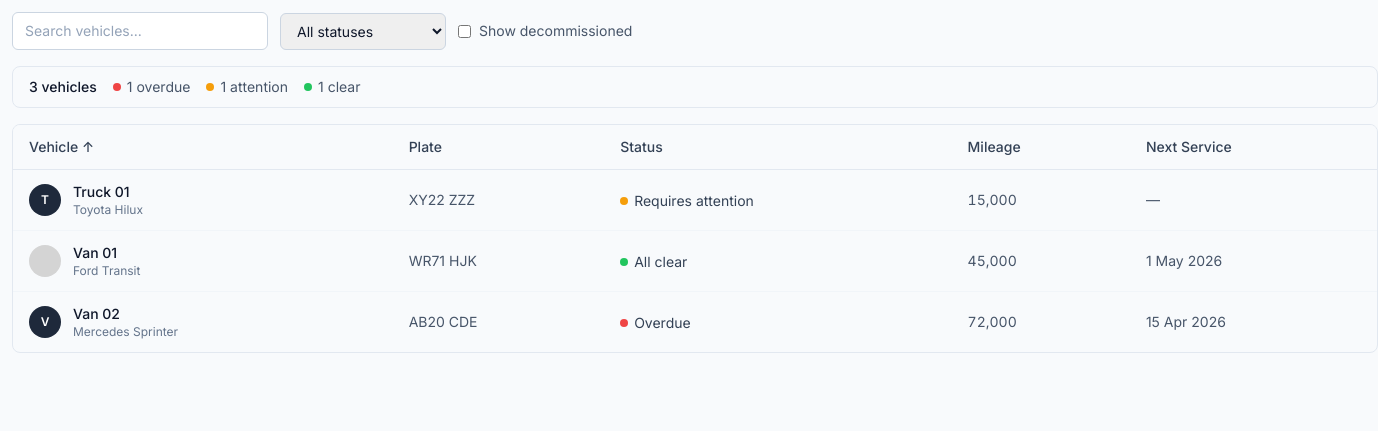
Scenario: VehicleList › decommissioned filter › shows decommissioned vehicles when toggle is checked
What coordinates should you click on to do the following:
click the checkbox labelled "Show decommissioned"
I would click on:
 (464, 31)
Its box is [458,24,471,38].
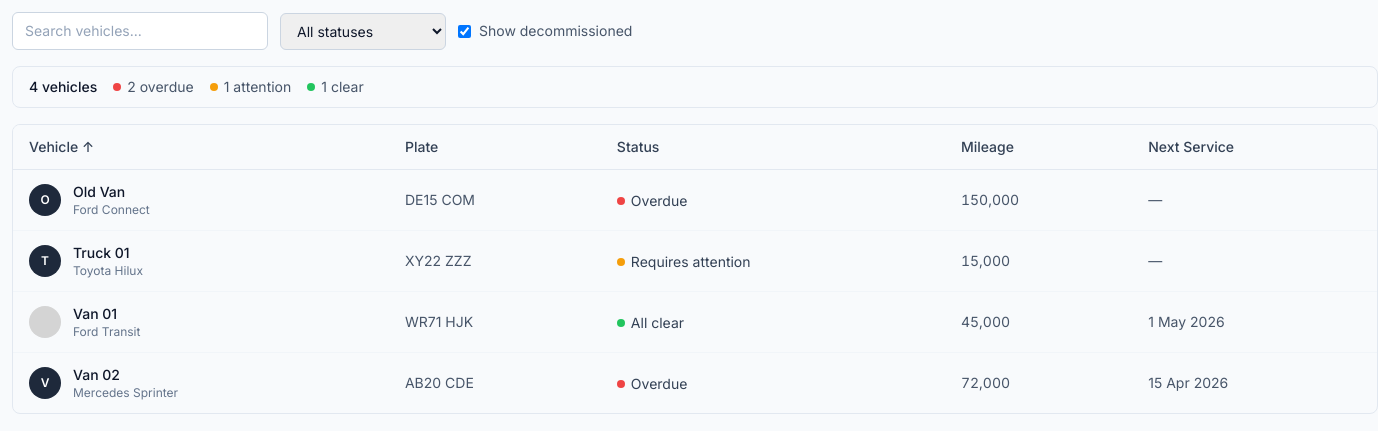
Expected: the link "Old Van" is shown, [73,183,125,200]
